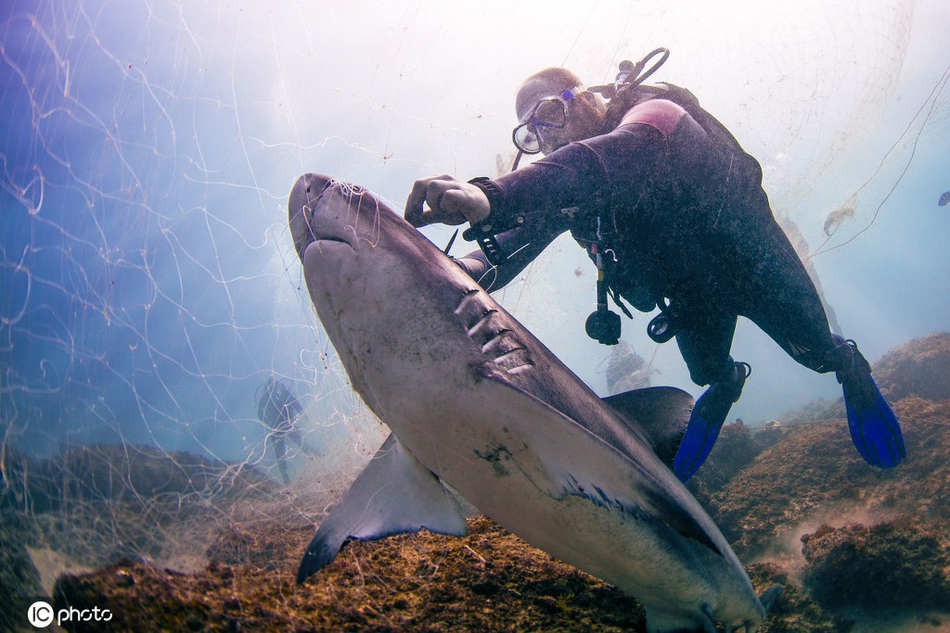shark: (219, 166, 789, 633)
